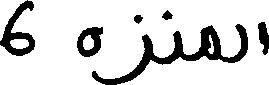X: (101, 10, 151, 84), (0, 0, 33, 60), (79, 22, 99, 84), (201, 20, 219, 64), (239, 19, 247, 65), (260, 17, 268, 59), (176, 26, 181, 63)
